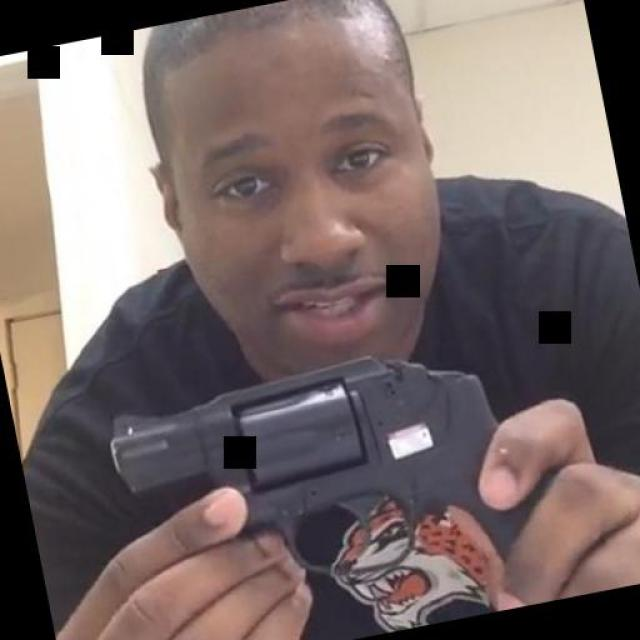gun: (95, 314, 585, 640)
